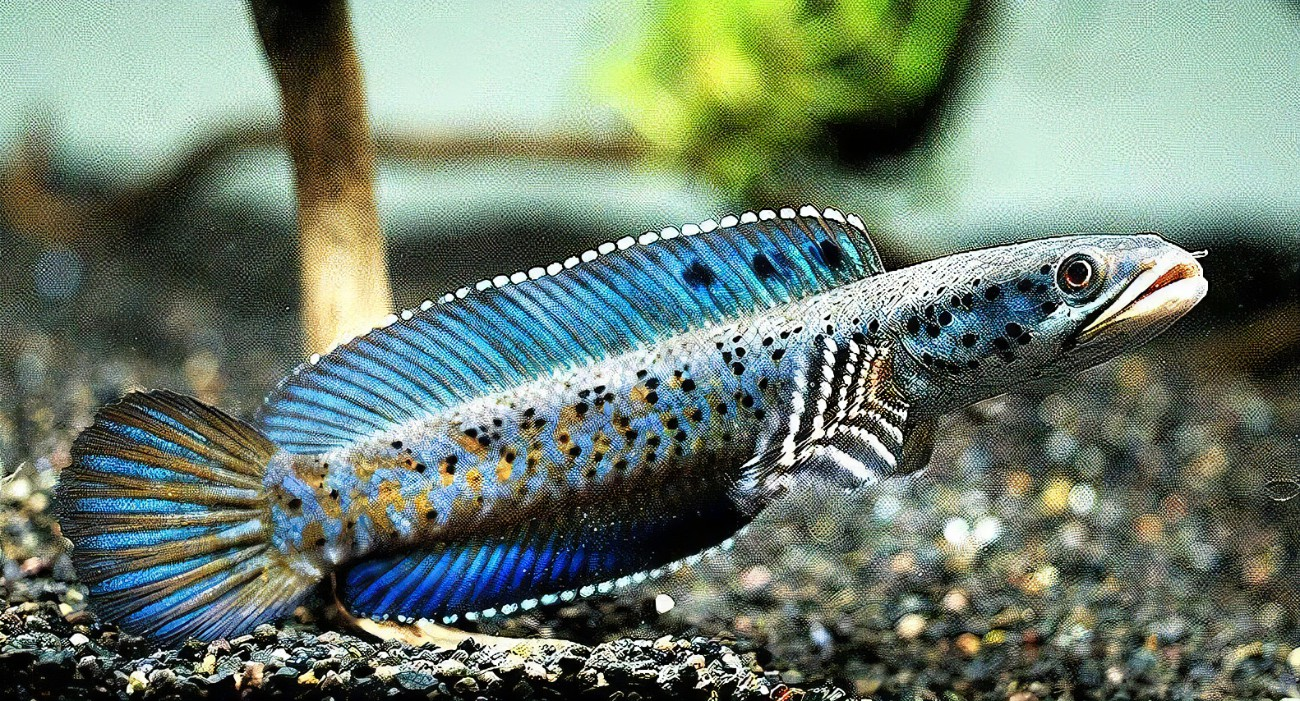Fish: (38, 98, 1253, 662)
